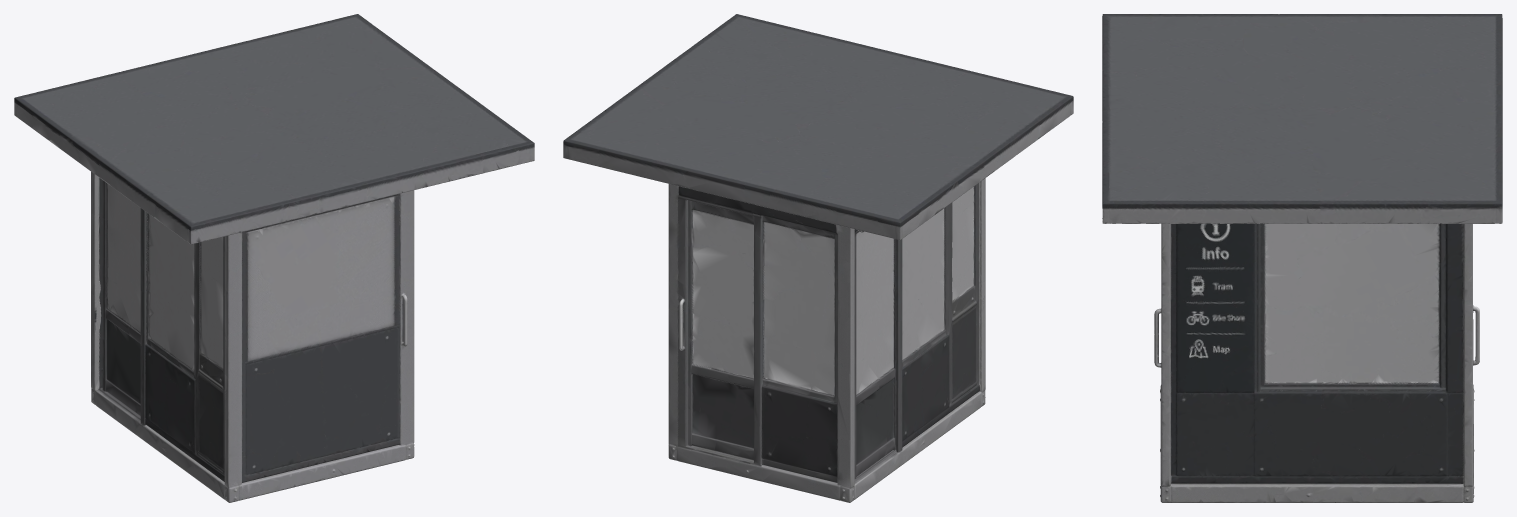
Rendered from kiosk.glb.
3 renders of one model, left to right at view 1: azimuth 30°, elevation 25°; view 2: azimuth 150°, elevation 25°; view 3: azimuth 270°, elevation 25°, orthographic. The views are drawn at different scales.
Visible parts, largest first — view 1: mesh_node; view 2: mesh_node; view 3: mesh_node.
Part boxes in pixels (box(x1,y1,x2,y2)): mesh_node: box(14, 14, 534, 502); mesh_node: box(563, 14, 1073, 502); mesh_node: box(1102, 14, 1502, 502).
Size of the model in its own units: 1.9 by 1.65 by 1.69.
1 material, 1 textured.
